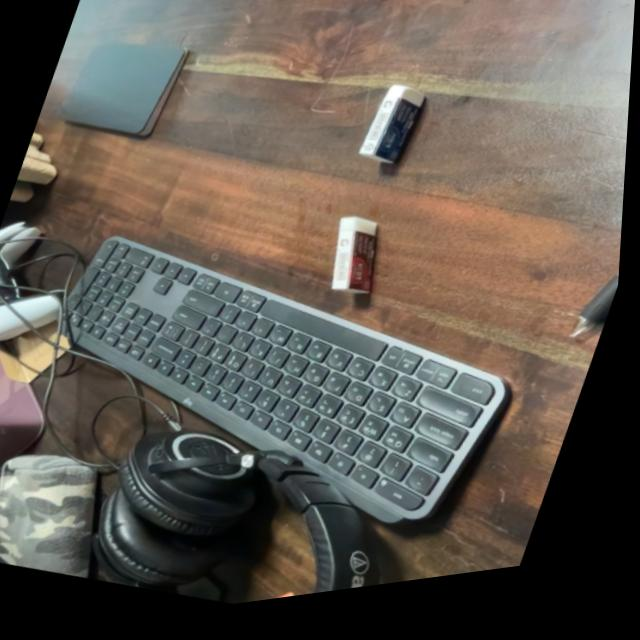blue: (352, 81, 438, 187)
red: (313, 213, 402, 318)
